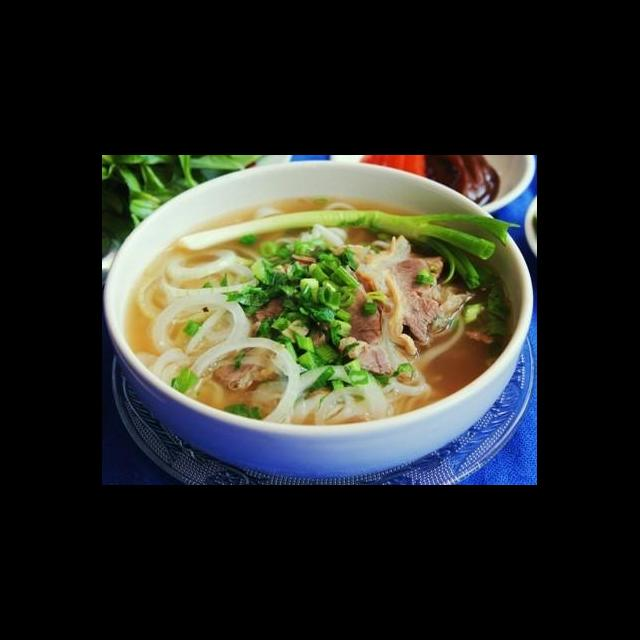banh pho: (284, 359, 442, 429)
pho bo: (119, 188, 538, 485)
thit bo: (338, 234, 458, 377), (248, 251, 332, 350), (206, 337, 292, 394)
